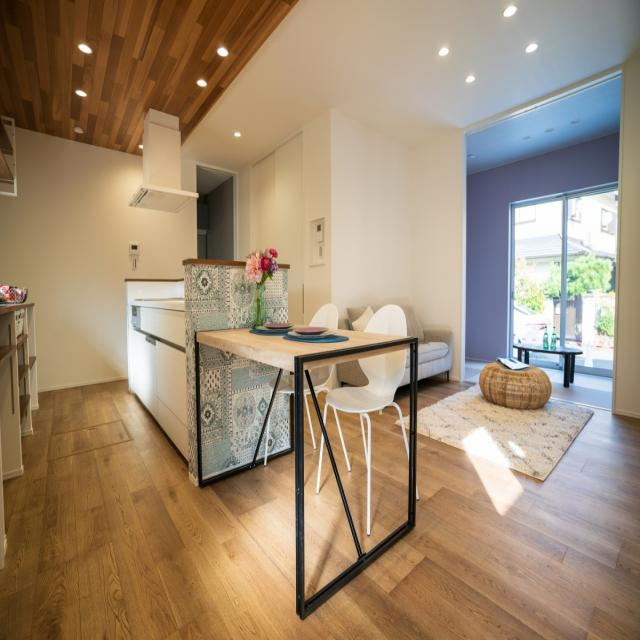modern chair: (197, 317, 425, 602)
